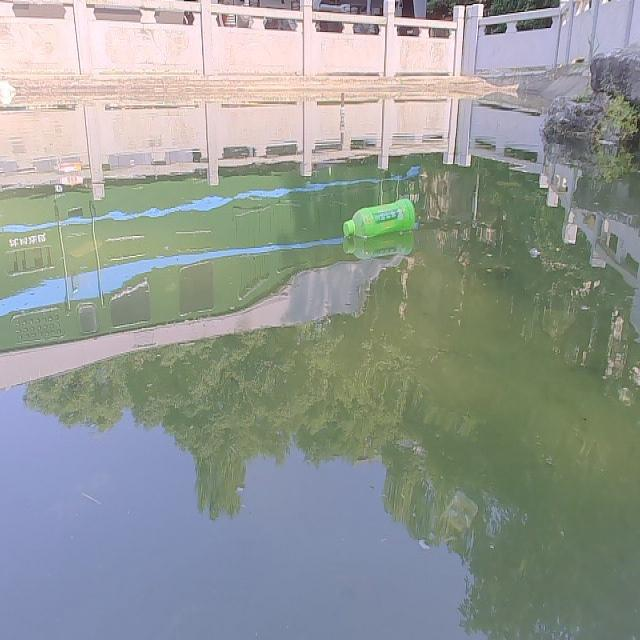Bottle: (337, 196, 418, 239)
